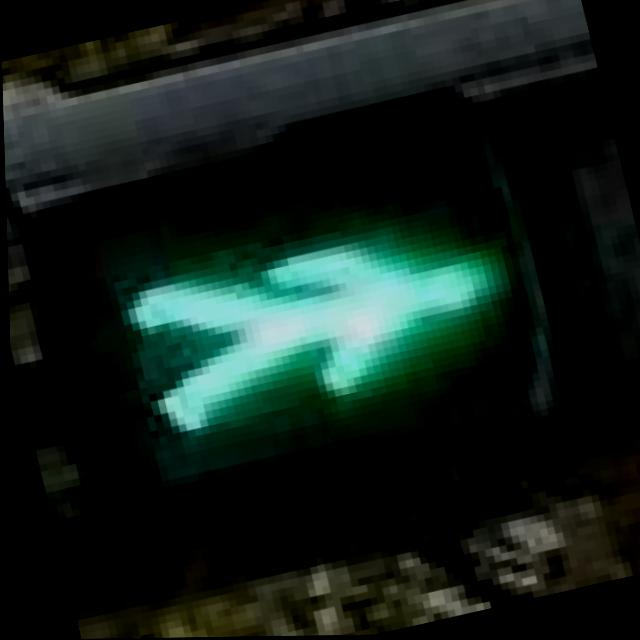green_light: (90, 140, 575, 505)
